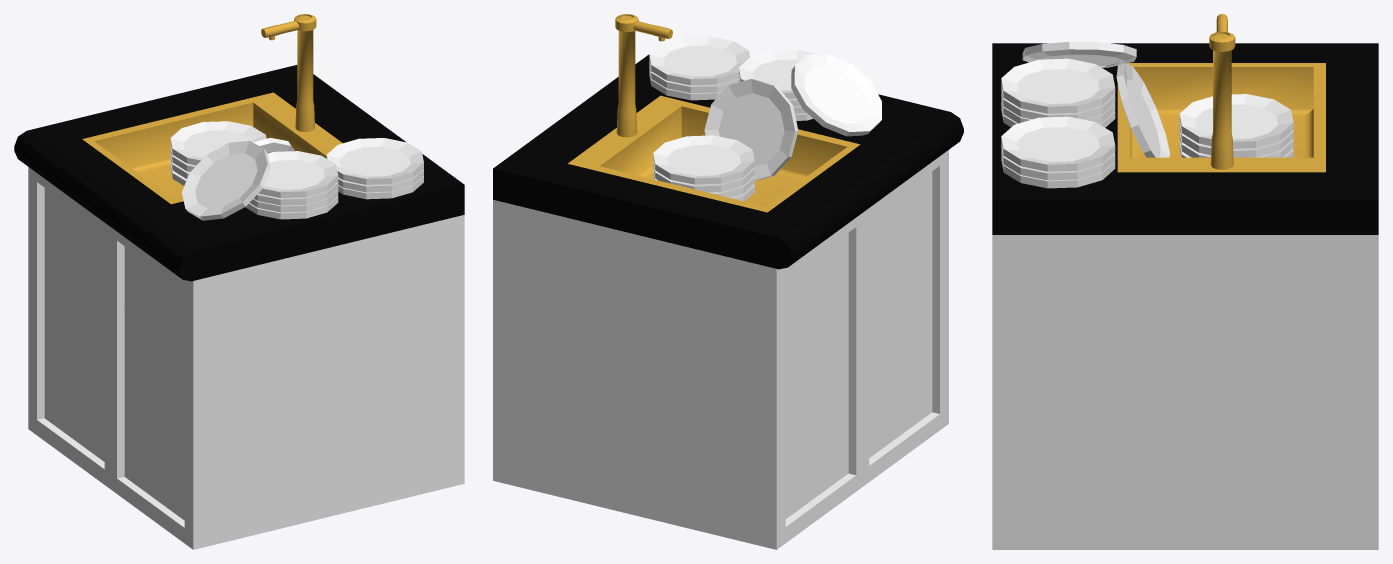
File: dishcounter.fbx
3 renders of one model, left to right at view 1: azimuth 30°, elevation 25°; view 2: azimuth 150°, elevation 25°; view 3: azimuth 270°, elevation 25°, orthographic. The views are drawn at different scales.
Parts seen in each view (by area): view 1: Cube; view 2: Cube; view 3: Cube.
Part boxes in pixels (left/top/right/bottom): Cube: left=14, top=14, right=464, bottom=549; Cube: left=493, top=14, right=963, bottom=549; Cube: left=992, top=14, right=1378, bottom=549.
Bounding box in the file's own units: 200 × 274 × 200.
